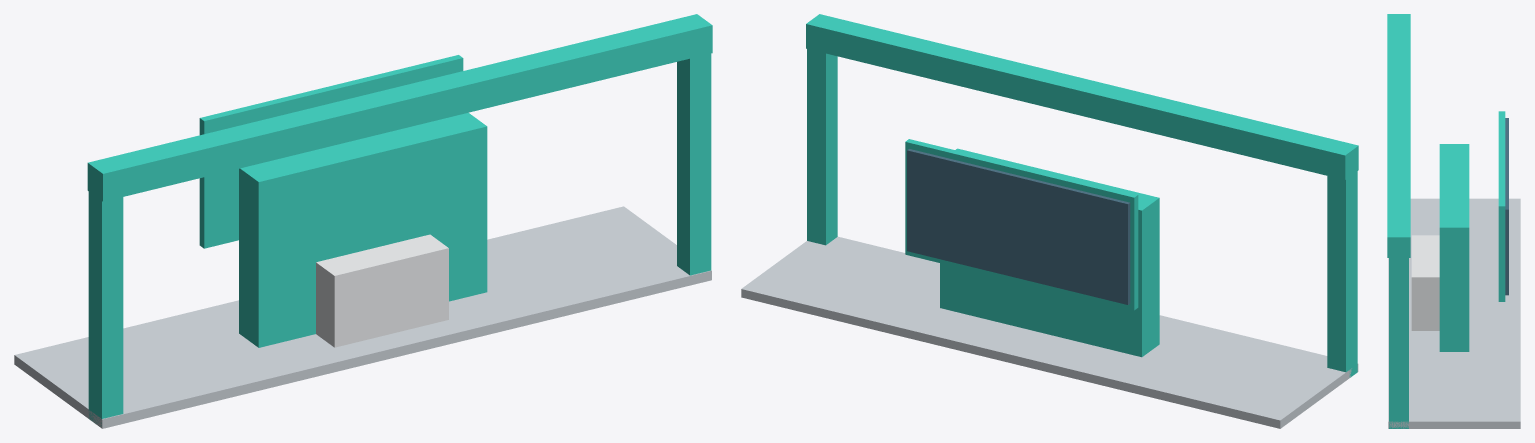
3 renders of one model, left to right at view 1: azimuth 30°, elevation 25°; view 2: azimuth 150°, elevation 25°; view 3: azimuth 270°, elevation 25°, orthographic. The views are drawn at different scales.
Parts seen in each view (by area): view 1: Exhibition Booth Concept; view 2: Exhibition Booth Concept; view 3: Exhibition Booth Concept.
Part boxes in pixels (box(x1,y1,x2,y2)): Exhibition Booth Concept: box(14, 14, 712, 428); Exhibition Booth Concept: box(741, 14, 1358, 428); Exhibition Booth Concept: box(1387, 14, 1520, 428).
Size of the model in its own units: 8 by 3.2 by 2.01.
